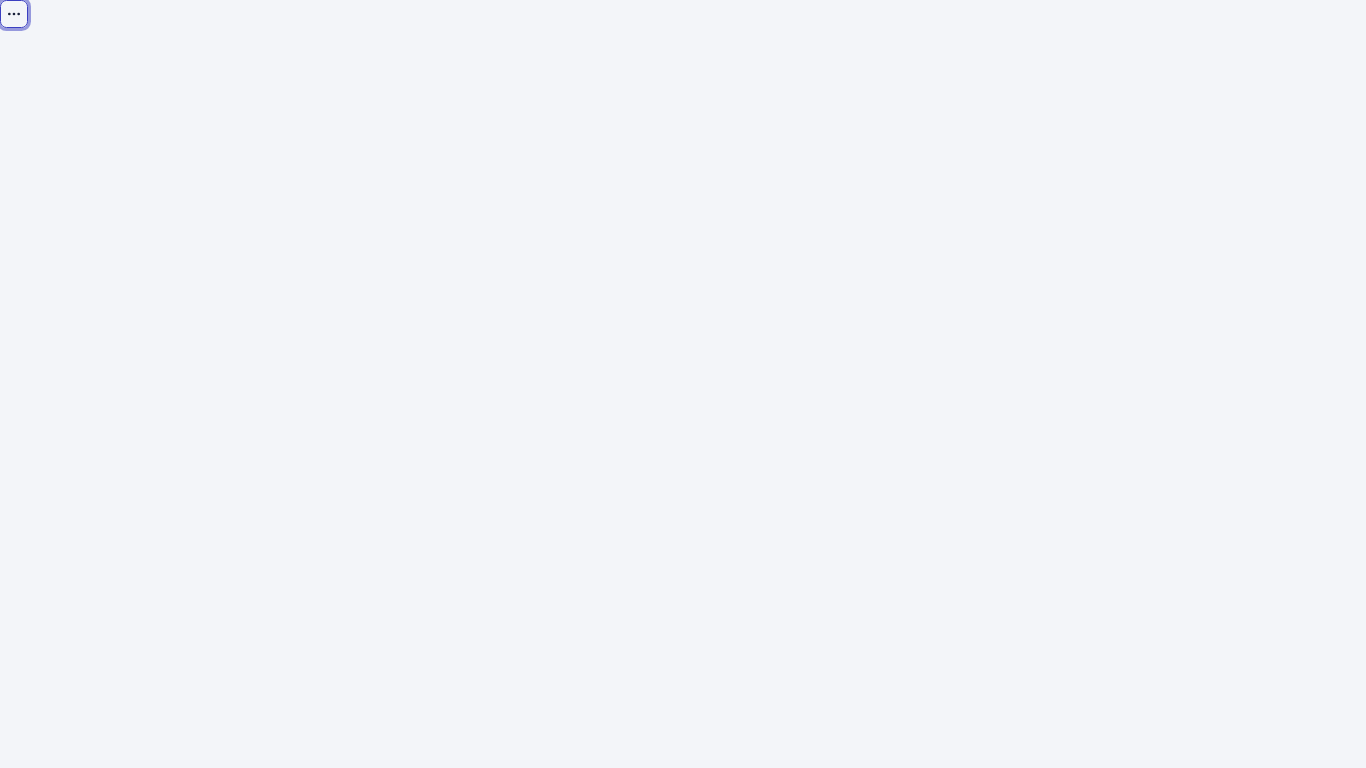
Test: RowMenu delete › asks first, naming the form and its submissions, with Cancel focused
Press Enter in the button named "Form actions", box [0,0,28,28]
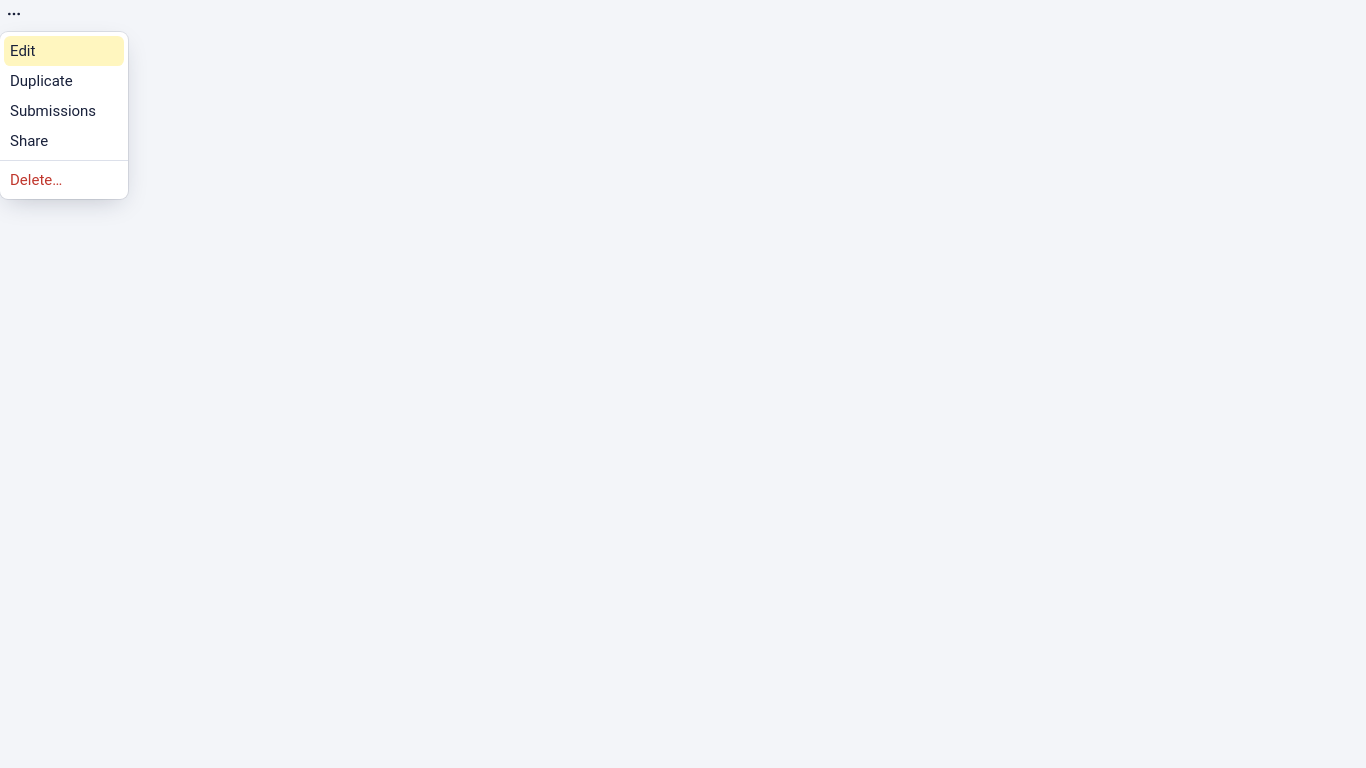
Check: the menu item "Delete…" is shown
Click the menu item "Delete…".
click(36, 180)  # box [10,171,62,189]
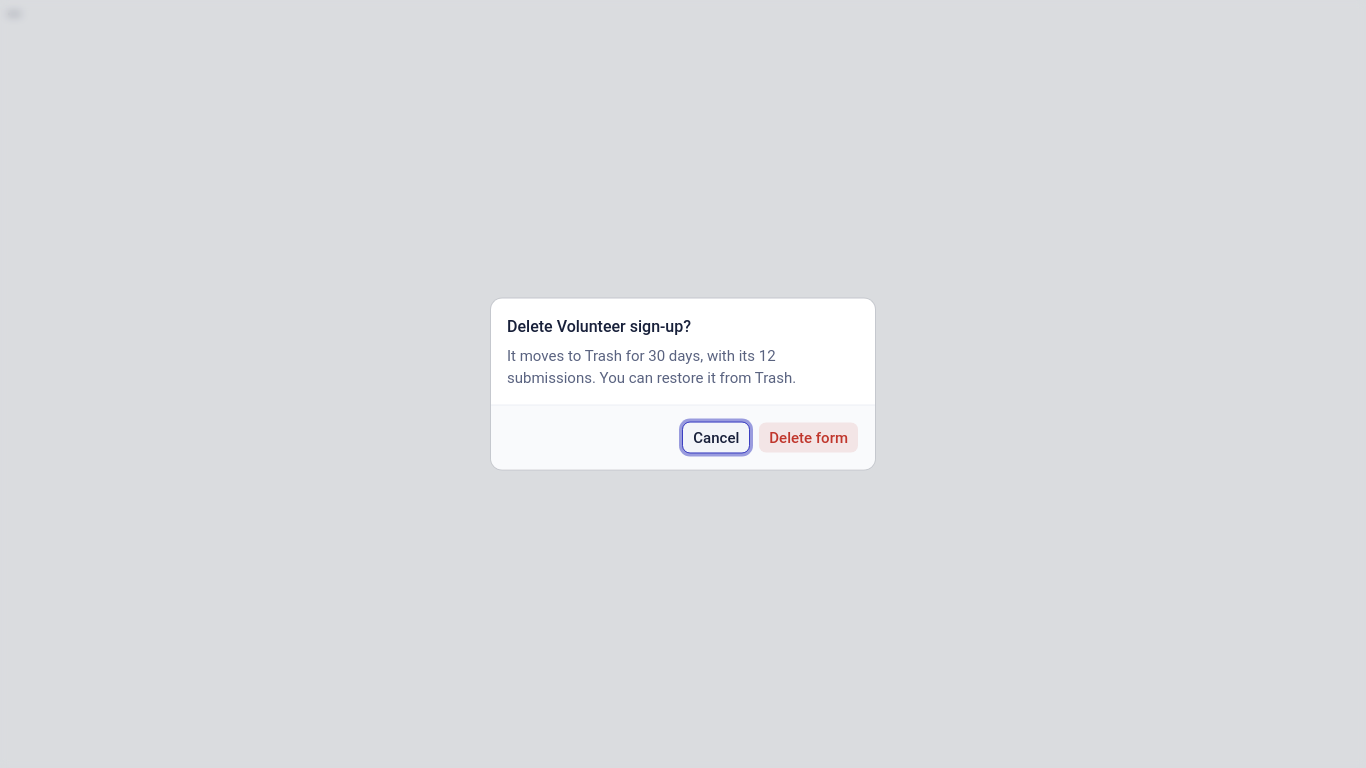
Check: the dialog shows "Delete Volunteer sign-up?", box [491,298,875,470]
Check: the dialog shows "It moves to Trash for 30 days, with its 12 submissions. You can restore it from Trash.", box [507,346,796,386]
Check: the button "Cancel" is shown, box [682,422,750,454]
